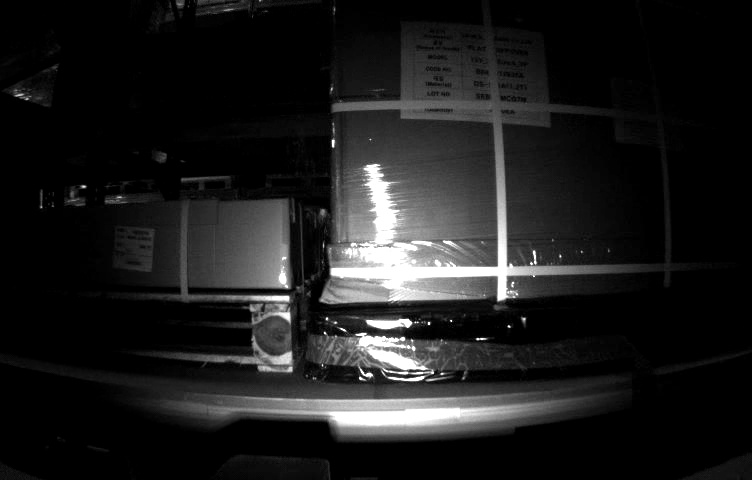True Barcode: (111, 227, 153, 275)
